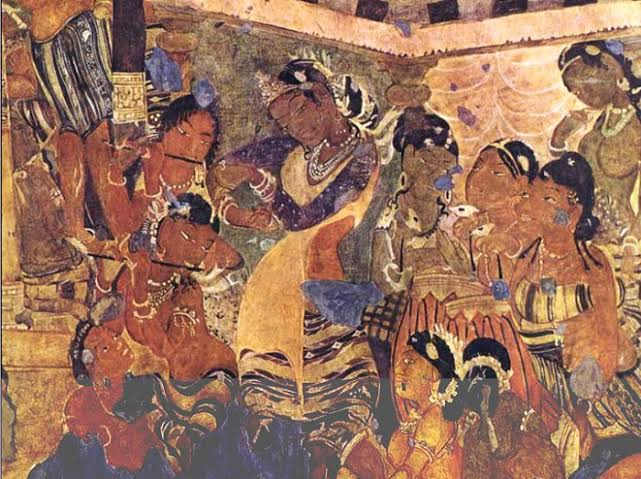Mahajanaka: (6, 1, 638, 460), (89, 39, 591, 454)
